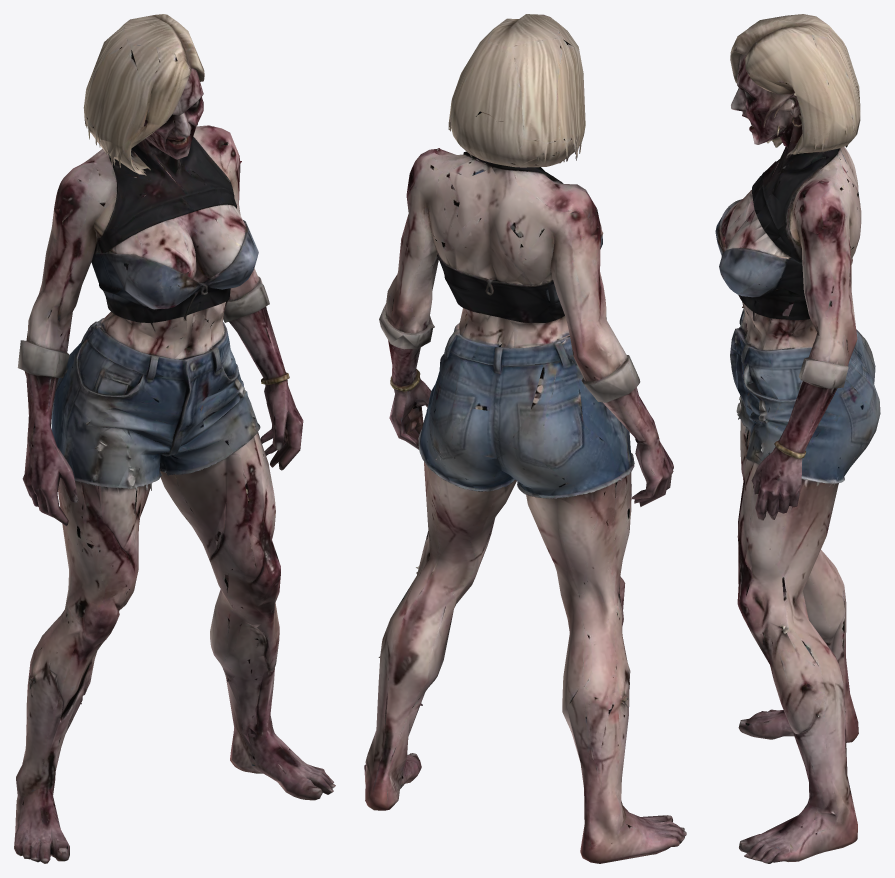
File: boss-matriarch.glb
3 views of the same model, side by side, from view 1: azimuth 30°, elevation 25°; view 2: azimuth 150°, elevation 25°; view 3: azimuth 270°, elevation 25° (orthographic). The views are drawn at different scales.
Visible parts, largest first — view 1: Object_4; view 2: Object_4; view 3: Object_4.
Part boxes in pixels (x1,y1,x2,y2): Object_4: (14, 14, 335, 863); Object_4: (364, 14, 686, 863); Object_4: (715, 14, 880, 863).
Bounding box in the file's own units: 0.4072 × 0.9984 × 0.1933.
Materials: 1 (1 with a texture image).
